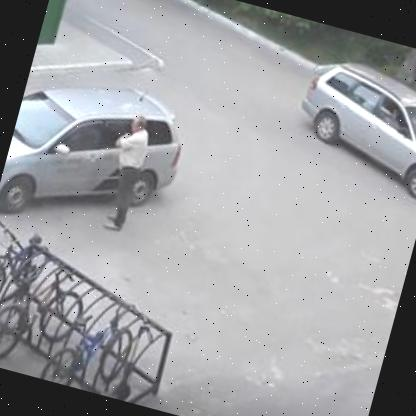person: (0, 57, 199, 261), (284, 42, 416, 202), (91, 107, 170, 244)
